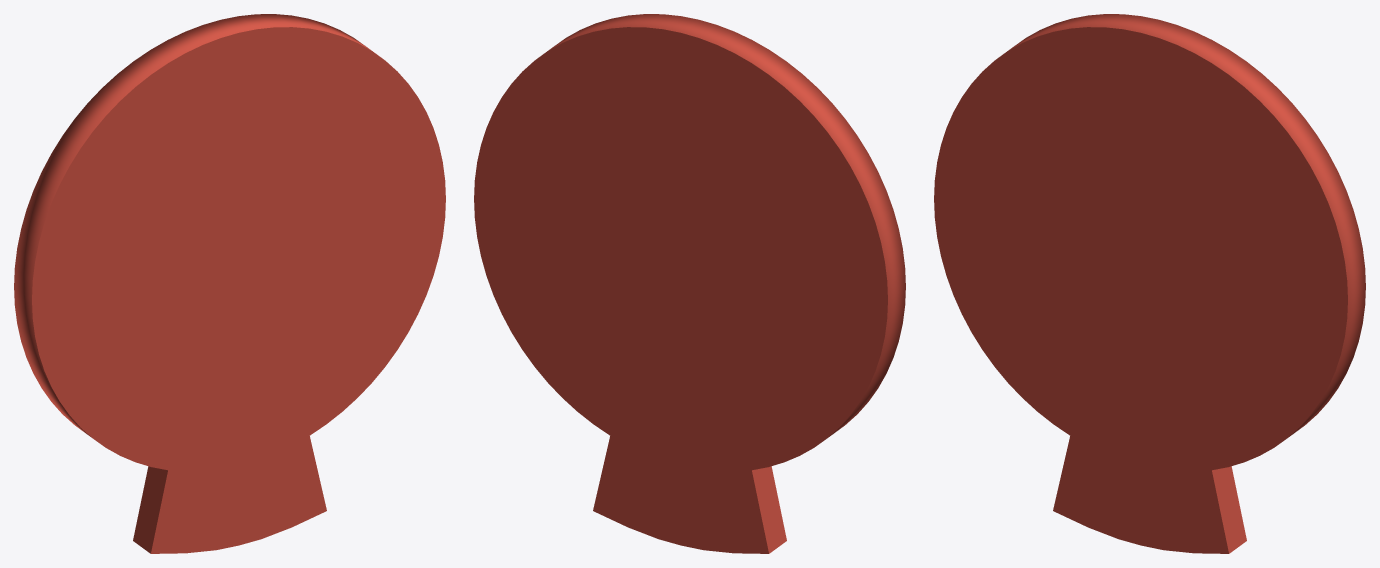
File: LuckyC_Balloon.fbx
3 renders of one model, left to right at view 1: azimuth 30°, elevation 25°; view 2: azimuth 150°, elevation 25°; view 3: azimuth 330°, elevation 25°, orthographic.
Visible parts, largest first — view 1: LuckyC_Balloon; view 2: LuckyC_Balloon; view 3: LuckyC_Balloon.
Part boxes in pixels (<box>): LuckyC_Balloon: <box>14,14,445,553</box>; LuckyC_Balloon: <box>474,14,905,553</box>; LuckyC_Balloon: <box>934,14,1365,553</box>.
Bounding box in the file's own units: 1.93 × 2.29 × 0.1449.
